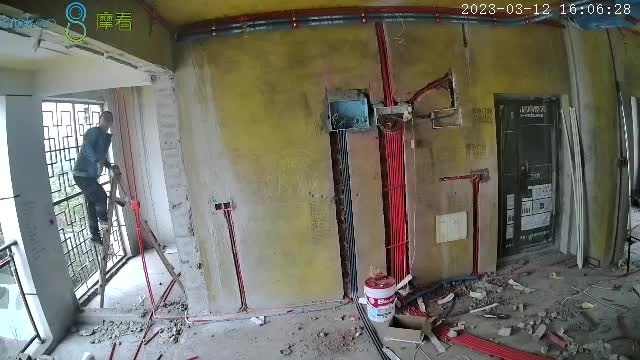people: (73, 110, 112, 245)
window: (43, 98, 125, 300)
